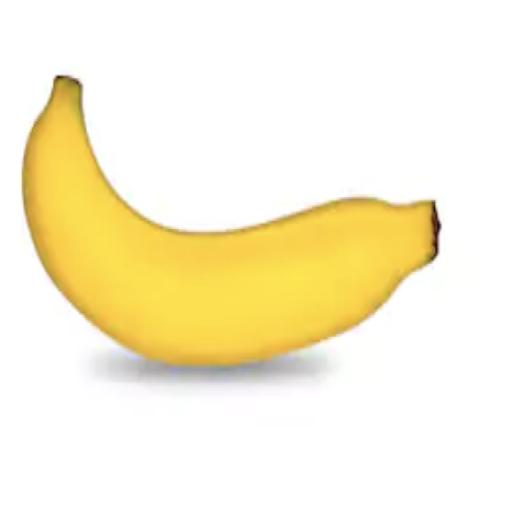banana: (24, 77, 439, 365)
